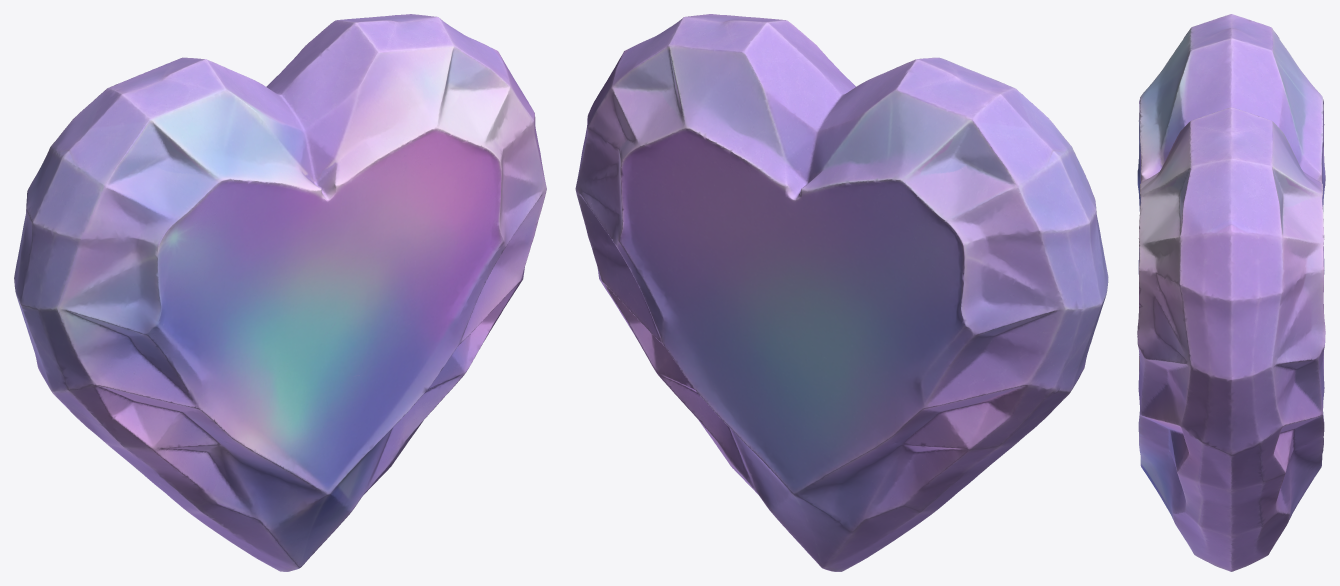
Rendered from Meshy_AI_Pastel_Prism_Heart_1014114054_texture.fbx.
The picture shows the model from 3 angles, left to right: view 1: azimuth 30°, elevation 25°; view 2: azimuth 150°, elevation 25°; view 3: azimuth 270°, elevation 25°; orthographic projection. The views are drawn at different scales.
Parts seen in each view (by area): view 1: Mesh_0; view 2: Mesh_0; view 3: Mesh_0.
Part boxes in pixels (left/top/right/bottom): Mesh_0: left=14, top=14, right=546, bottom=571; Mesh_0: left=575, top=14, right=1108, bottom=571; Mesh_0: left=1137, top=14, right=1325, bottom=571.
Size of the model in its own units: 190 by 185 by 63.4.
1 material, 1 textured.
